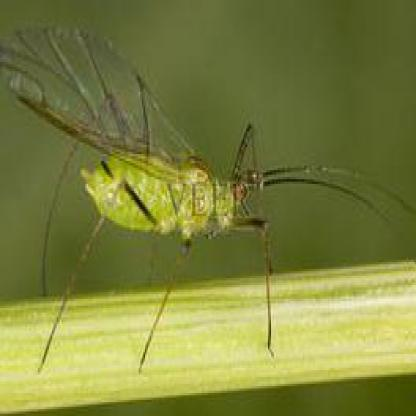aphid: (0, 7, 416, 368)
